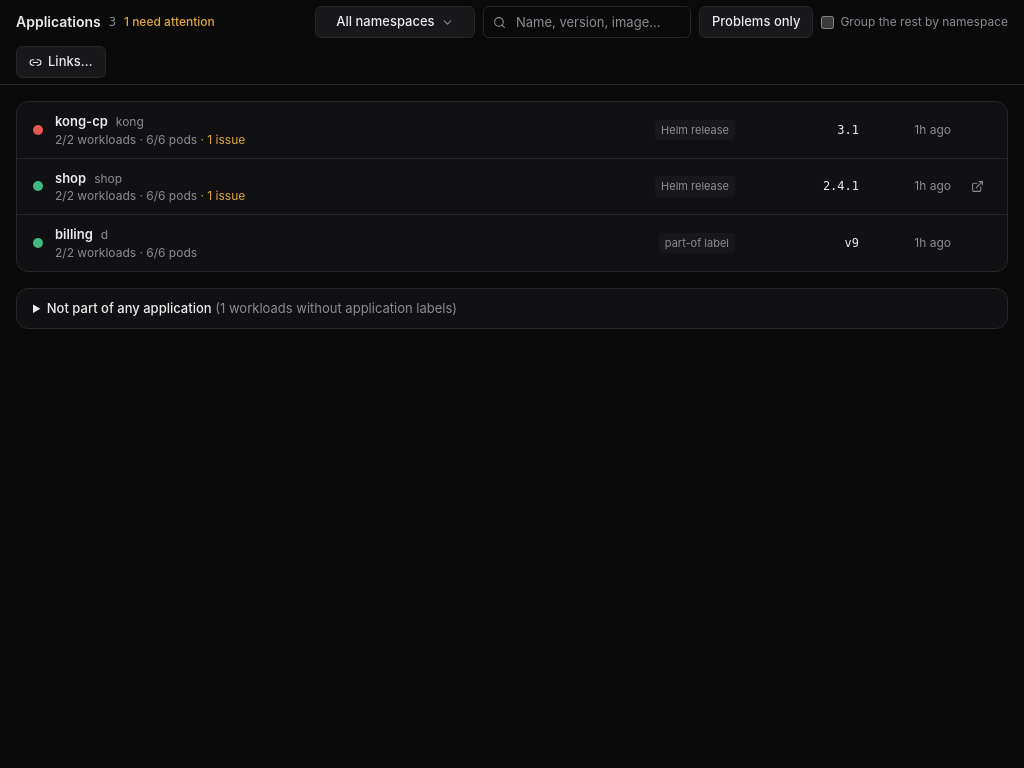
Test: Application detail › the Resources tab lists every object
This screenshot has width=1024, height=768.
Click the button with aria-label "Open shop". click: coordinates (71, 178)
box: [33,168,951,204]
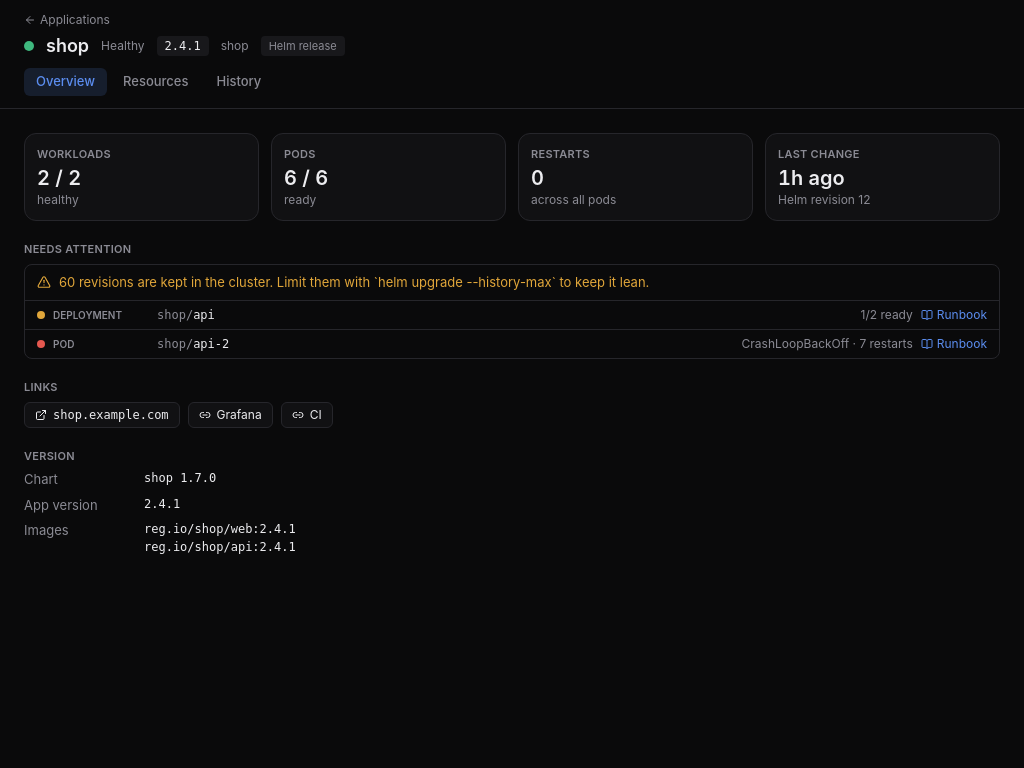
Expected: the text "Workloads" is shown, [37,146,111,160]
Click the button "resources". click: coordinates (156, 82)
box: [111,68,200,96]
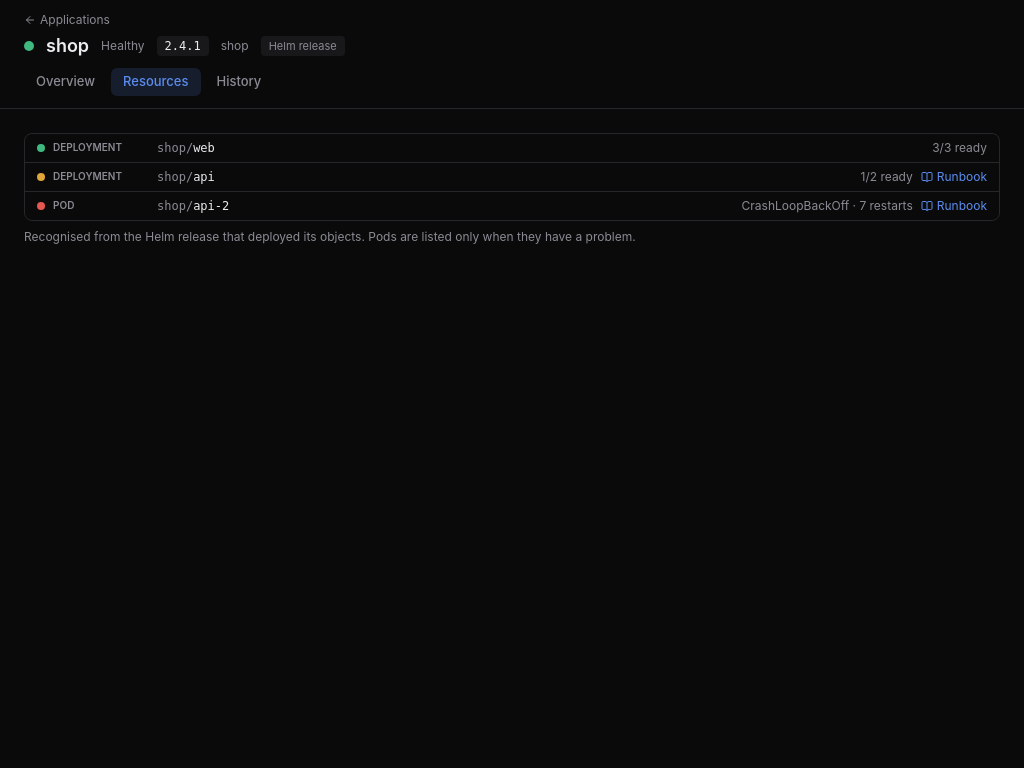
Expected: the button "shop/web" is shown, [157,140,924,156]
Expected: the text "3/3 ready" is shown, [932,140,987,156]
Expected: the text "Pods are listed only when they have a problem" is shown, [365,228,636,244]
